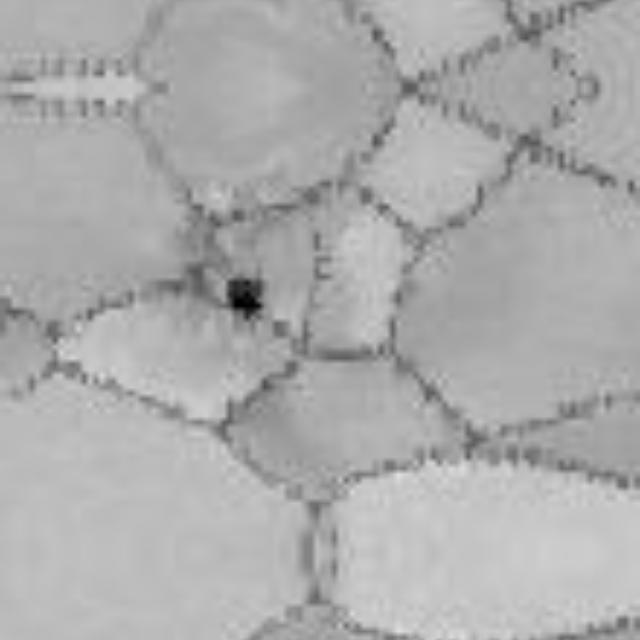good_void: (220, 271, 270, 326)
